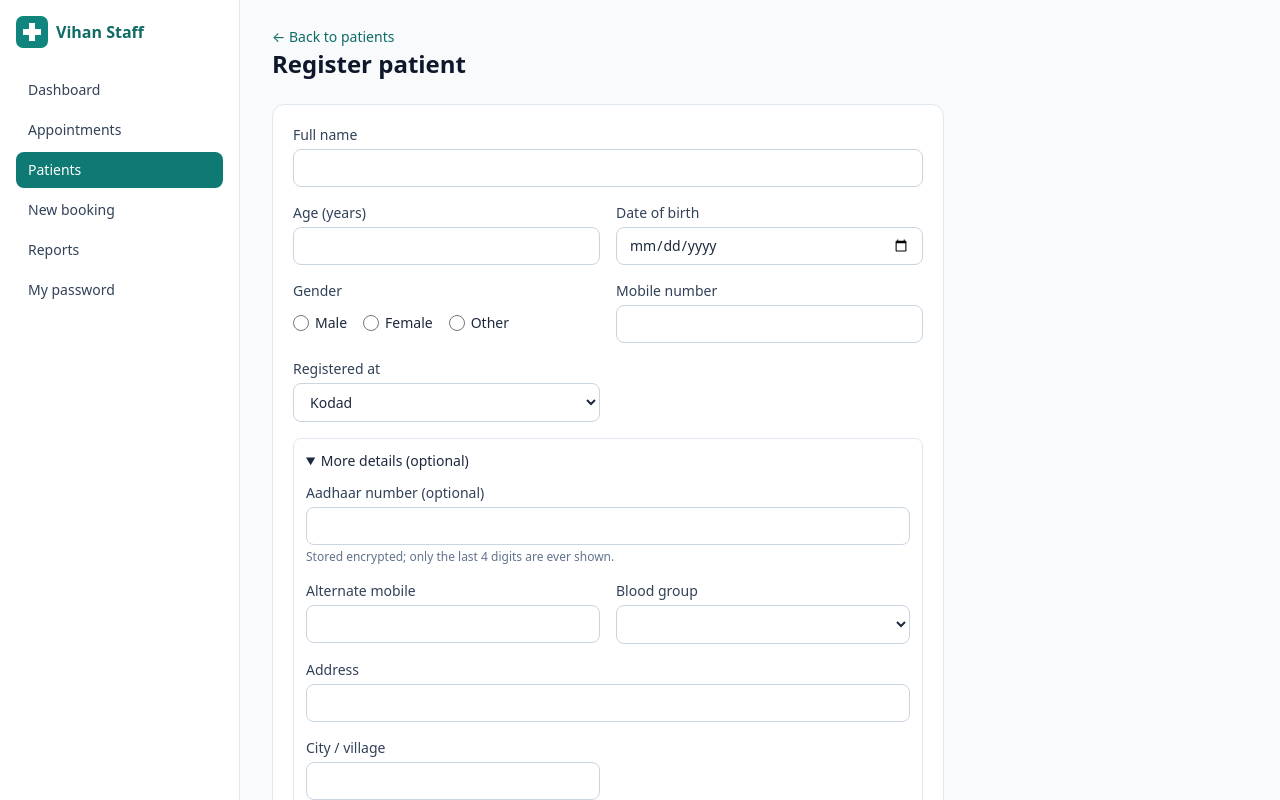
Test: Patients (reception) › shows possible duplicates first and registers only when confirmed
Expected: the dropdown labelled "Registered at" shows "Kodad", [293,383,600,422]
Type "K. Lakshmi Reddy" into the field labelled "Full name" at (608, 168), box [293,149,923,187]
Type "34" into the field labelled "Age (years)" at (446, 246), box [293,227,600,265]
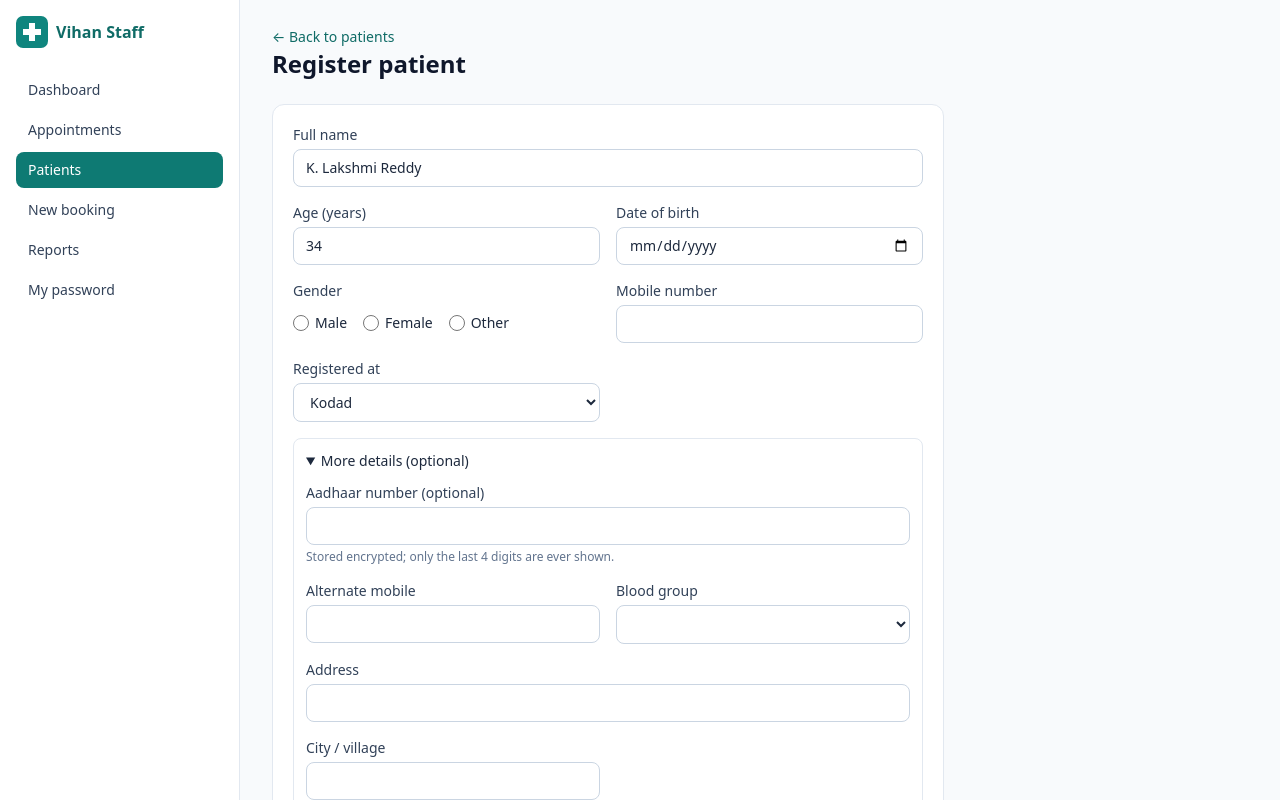
Click the radio button labelled "Female" at (371, 323), box [363,315,379,331]
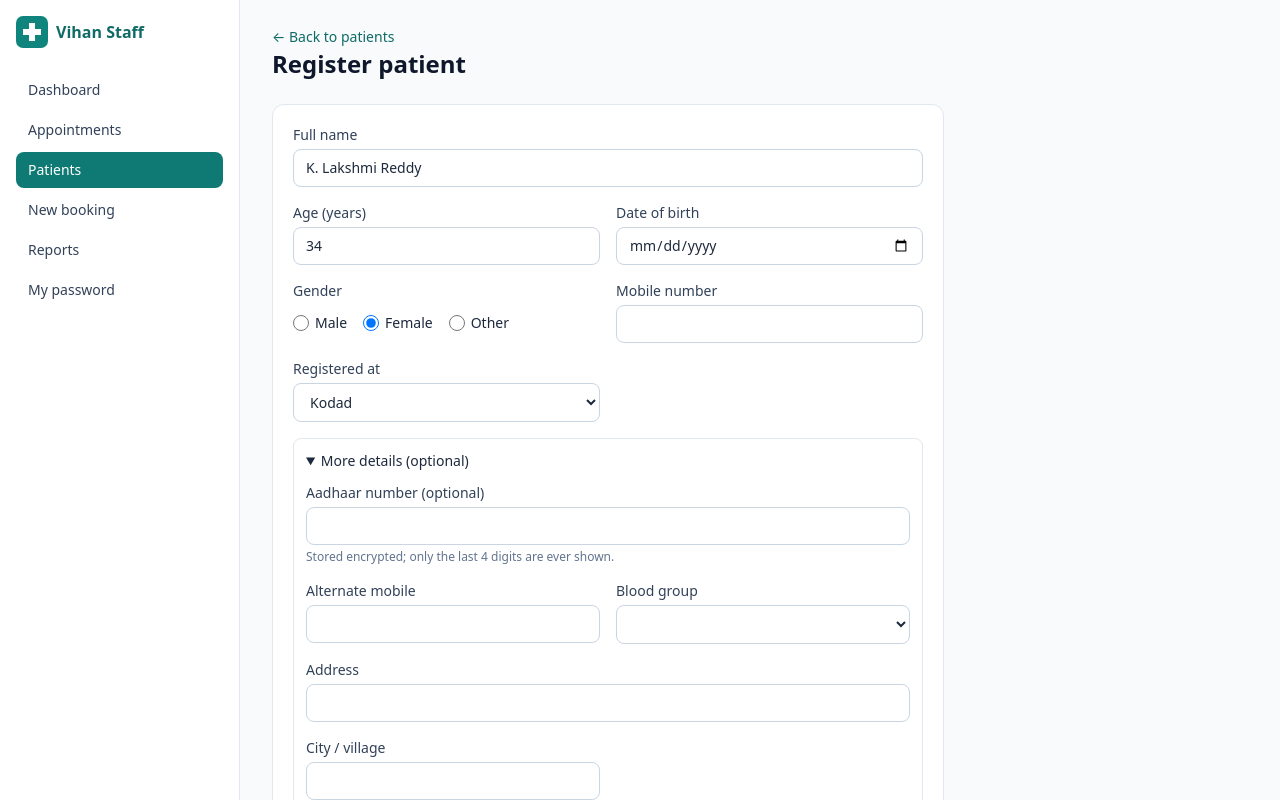
Type "9876500001" into the field labelled "Mobile number" at (770, 324), box [616,305,923,343]
(page scrolled)
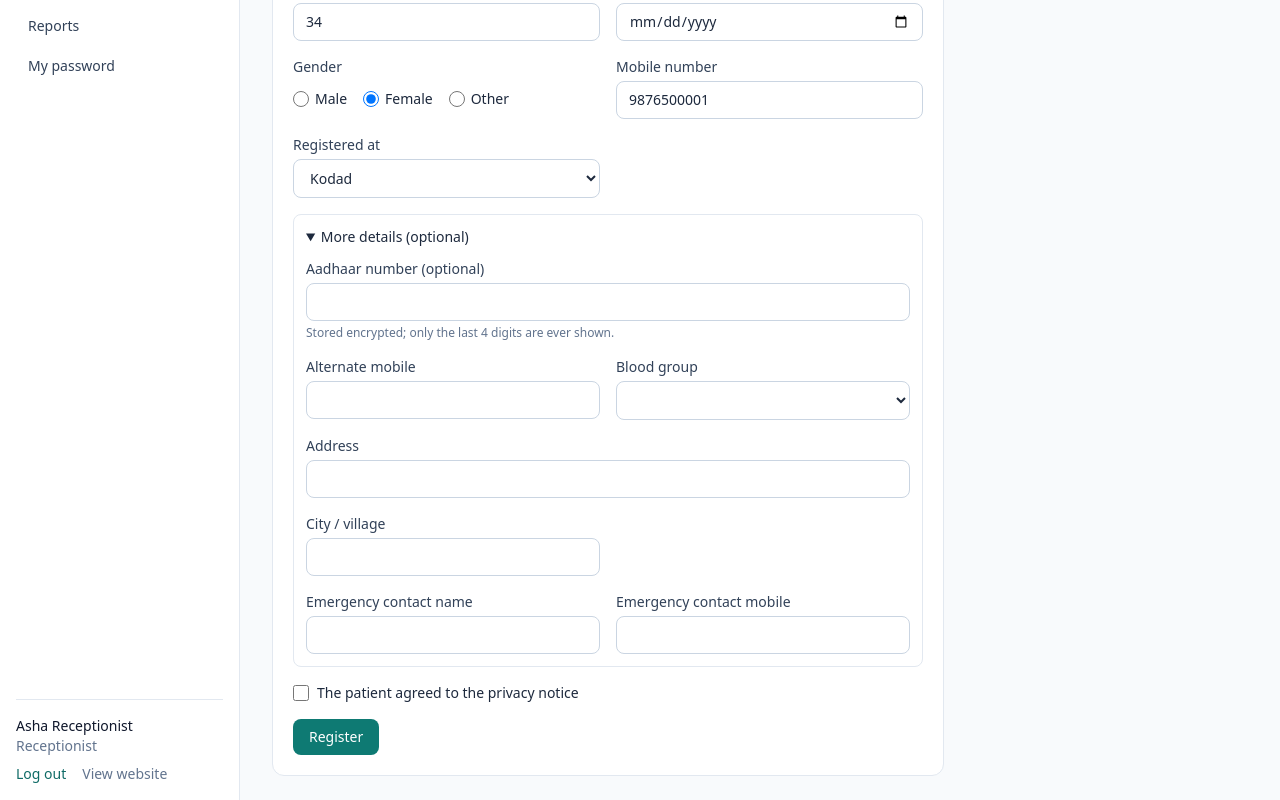
Click the checkbox labelled "The patient agreed to the privacy notice" at (301, 693), box [293,685,309,701]
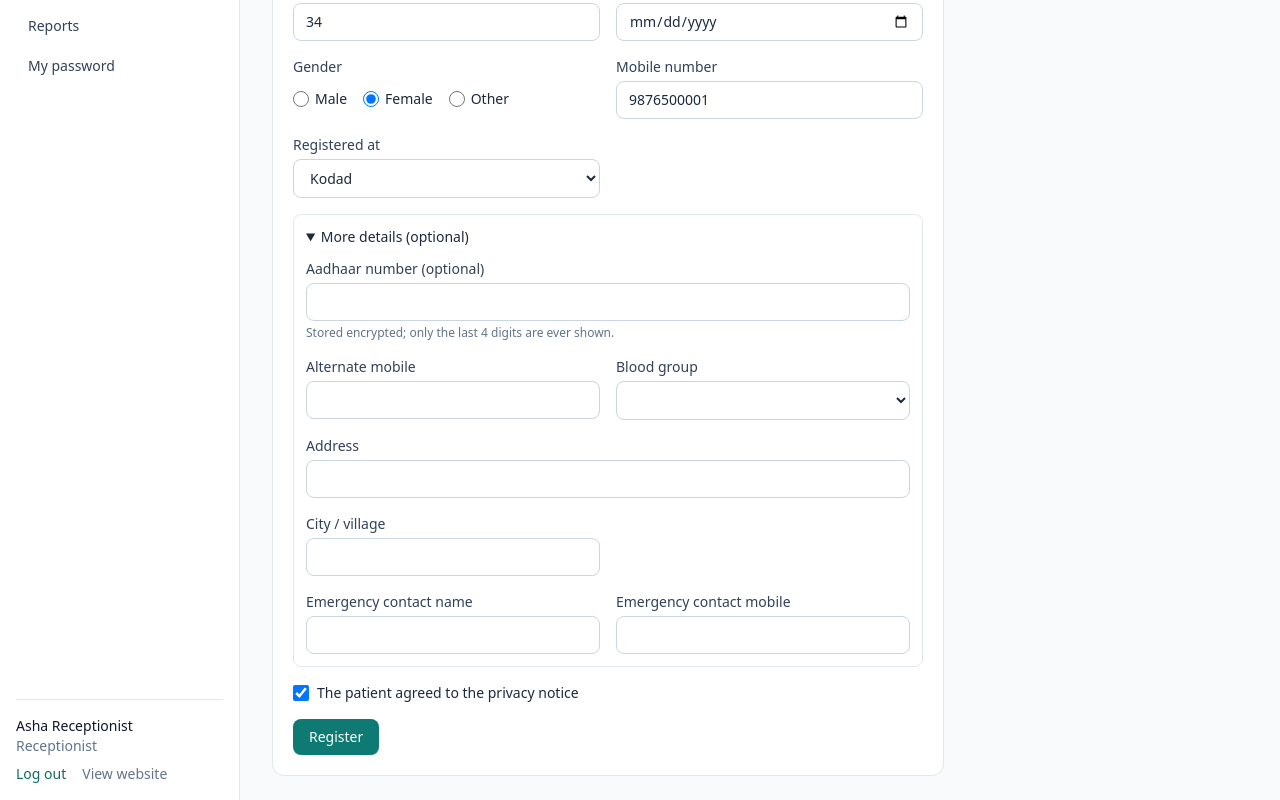
Click the button "Register" at (336, 737), box [293,719,379,755]
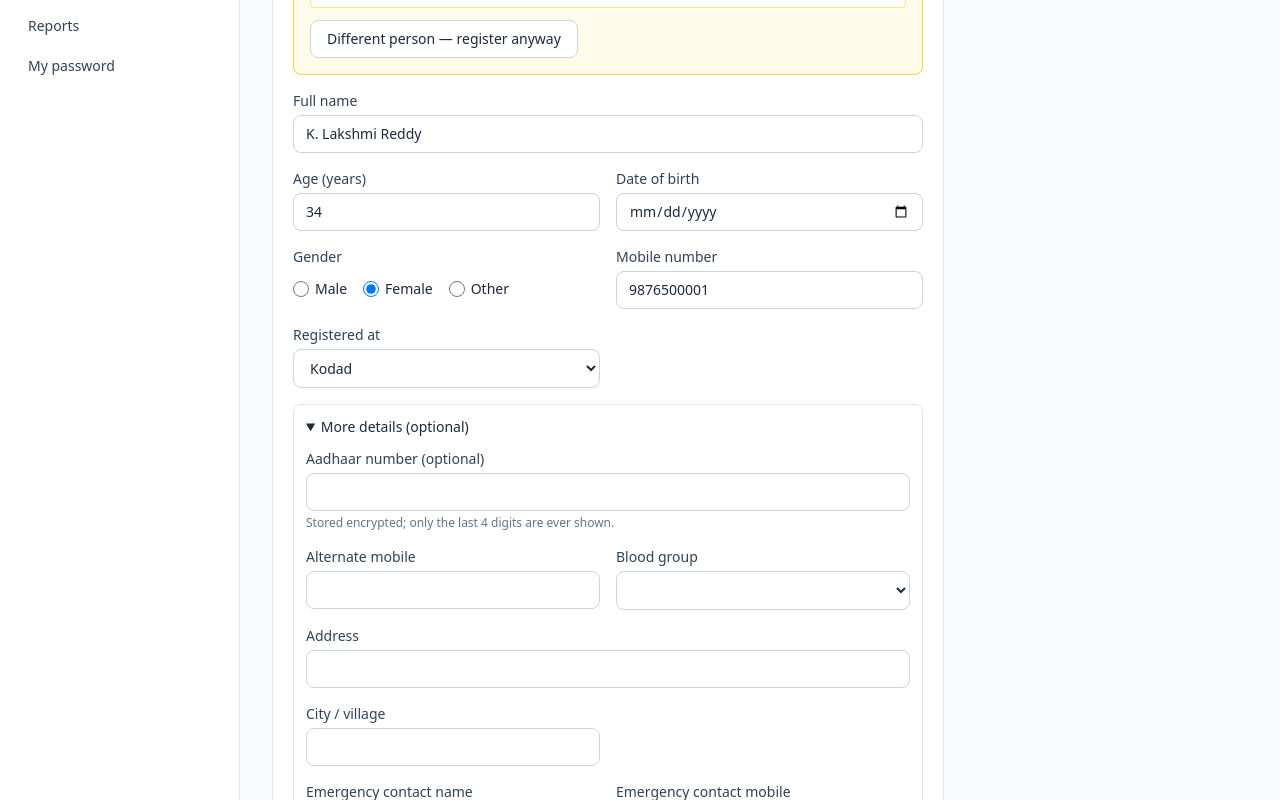
Click the button "Different person — register anyway" at (444, 39), box [310,20,578,58]
(page scrolled)
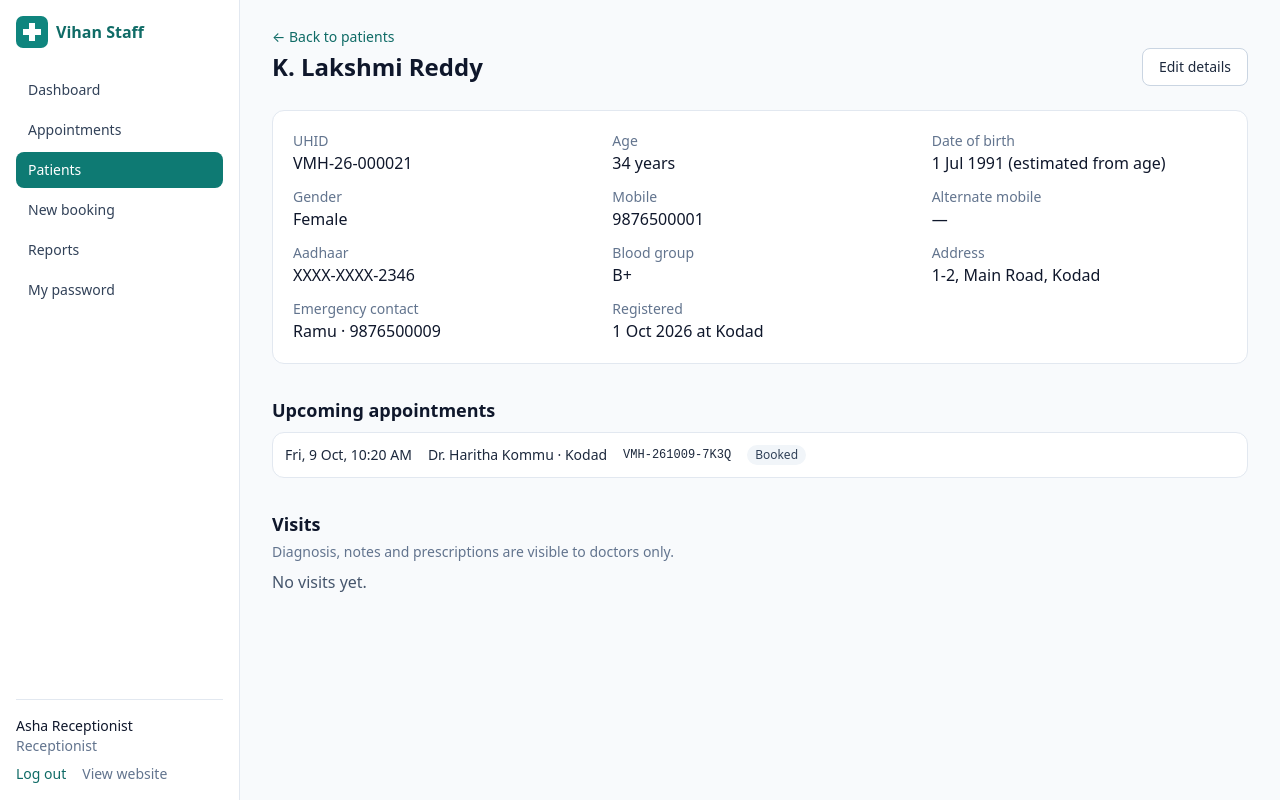
Expected: the heading "K. Lakshmi Reddy" is shown, [272,51,483,83]
